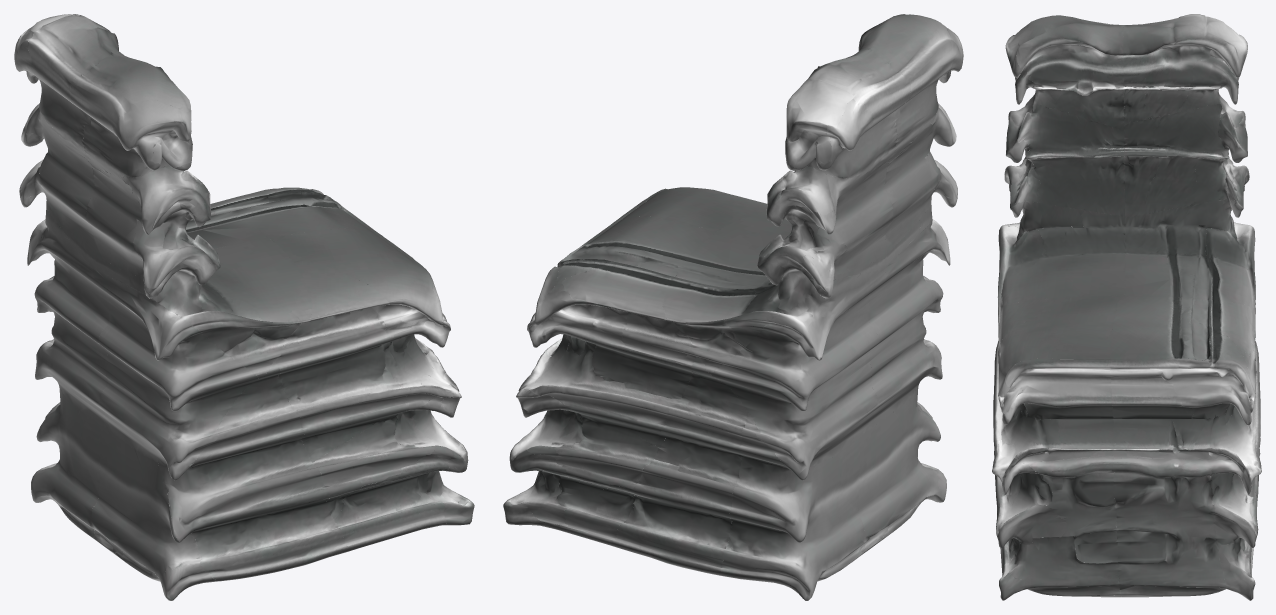
Rendered from co-chair-opt-v1.glb.
3 views of the same model, side by side, from view 1: azimuth 30°, elevation 25°; view 2: azimuth 150°, elevation 25°; view 3: azimuth 270°, elevation 25° (orthographic). The views are drawn at different scales.
Parts seen in each view (by area): view 1: tripo_node_d010fff7-a20f-4dd4-a740-be4d4d85449f.001; view 2: tripo_node_d010fff7-a20f-4dd4-a740-be4d4d85449f.001; view 3: tripo_node_d010fff7-a20f-4dd4-a740-be4d4d85449f.001.
Boxes of the visible parts, x1=… form: tripo_node_d010fff7-a20f-4dd4-a740-be4d4d85449f.001: x1=14, y1=14, x2=474, y2=600; tripo_node_d010fff7-a20f-4dd4-a740-be4d4d85449f.001: x1=503, y1=14, x2=963, y2=600; tripo_node_d010fff7-a20f-4dd4-a740-be4d4d85449f.001: x1=992, y1=14, x2=1261, y2=600.
Size of the model in its own units: 0.56 by 0.8203 by 0.4301.
Materials: 1 (1 with a texture image).
